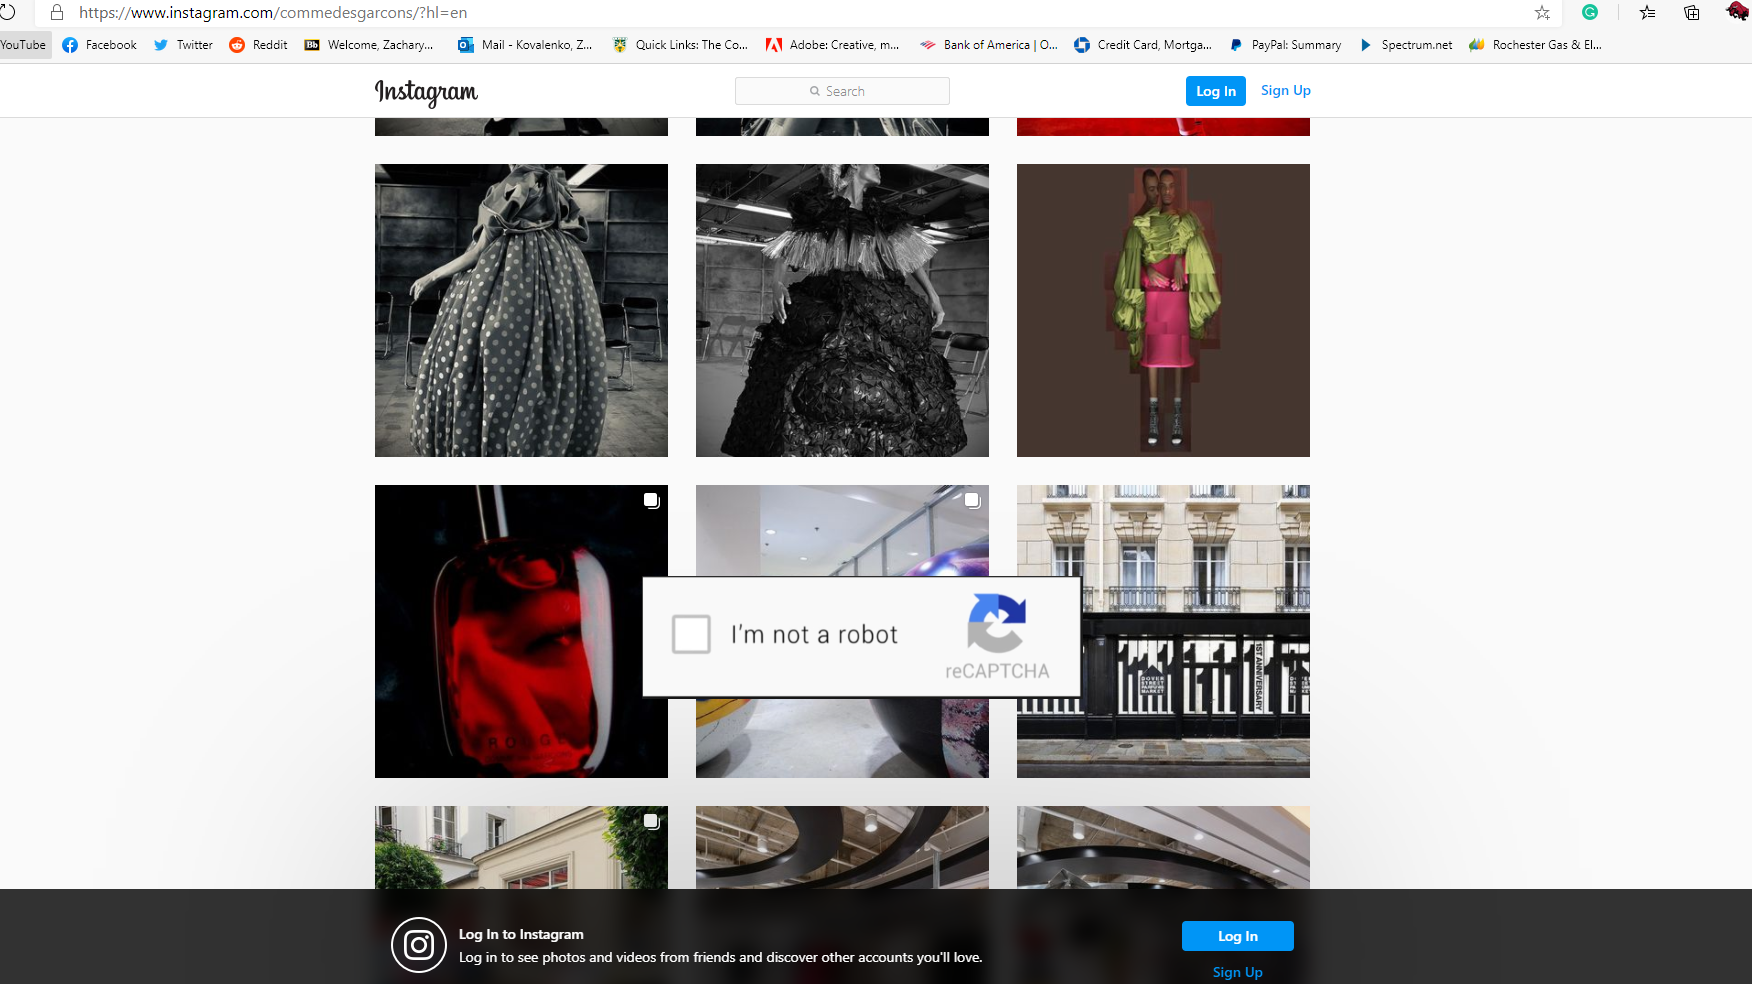captcha: (625, 567, 1096, 709)
